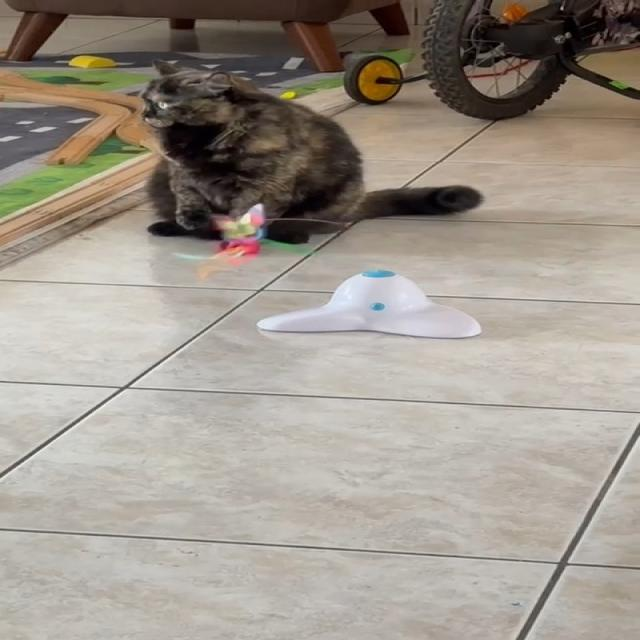authorized: (136, 58, 484, 244)
